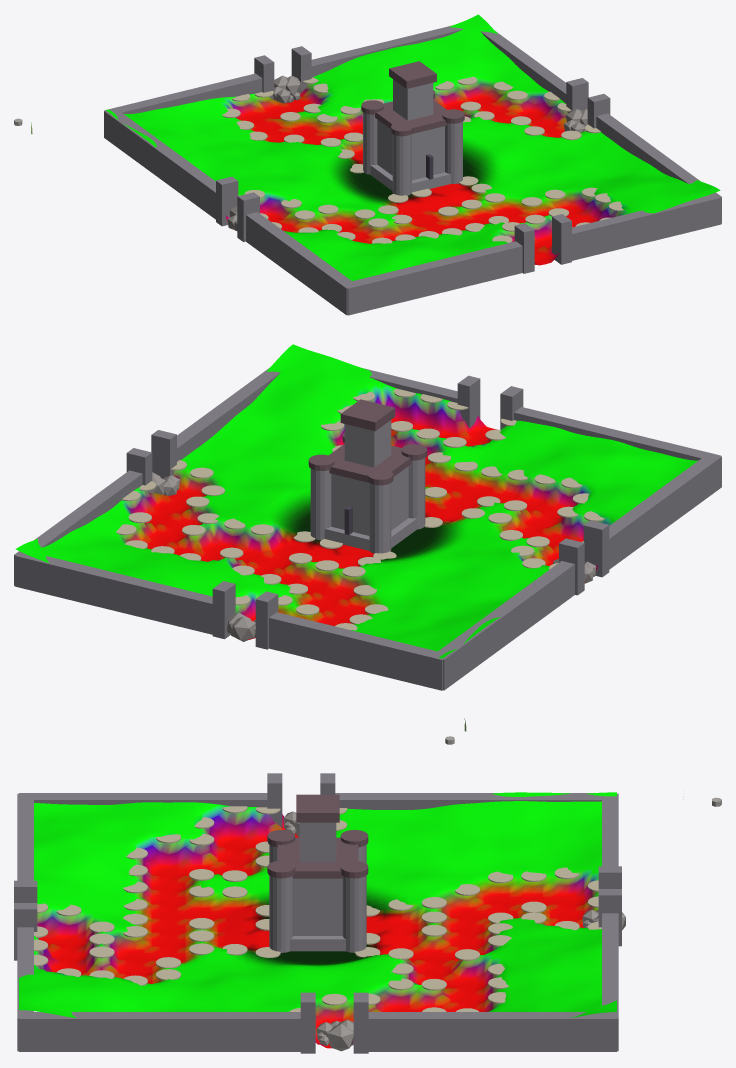
The model's file is keep_arena.glb.
3 renders of one model, top to bottom at view 1: azimuth 30°, elevation 25°; view 2: azimuth 150°, elevation 25°; view 3: azimuth 270°, elevation 25°, orthographic. The views are drawn at different scales.
Parts seen in each view (by area): view 1: terrain, wall_south_a, wall_south_b, wall_west_a, wall_west_b, wall_north_a, keep_walls, wall_east_b, wall_north_b, wall_east_a, keep_tower_core, keep_corner_3 (+13 smaller); view 2: terrain, wall_north_b, wall_north_a, wall_west_a, wall_west_b, keep_walls, wall_south_a, wall_east_b, wall_east_a, keep_tower_core, keep_corner_0, keep_corner_1 (+13 smaller); view 3: terrain, wall_east_b, wall_east_a, wall_west_a, keep_walls, wall_west_b, keep_corner_1, keep_corner_2, wall_north_b, keep_roof, keep_tower_core, wall_south_a (+12 smaller).
Part boxes in pixels (<box>): terrain: <box>106,14,720,280</box>; wall_south_a: <box>342,241,522,315</box>; wall_south_b: <box>572,193,721,260</box>; wall_west_a: <box>104,110,215,219</box>; wall_west_b: <box>246,212,356,315</box>; wall_north_a: <box>104,73,262,114</box>; keep_walls: <box>377,119,444,180</box>; wall_east_b: <box>596,113,721,223</box>; wall_north_b: <box>311,25,463,77</box>; wall_east_a: <box>480,31,566,103</box>; keep_tower_core: <box>393,79,433,120</box>; keep_corner_3: <box>392,134,411,195</box>; terrain: <box>15,344,697,658</box>; wall_north_b: <box>14,554,212,634</box>; wall_north_a: <box>269,612,449,690</box>; wall_west_a: <box>432,561,574,690</box>; wall_west_b: <box>609,454,721,569</box>; keep_walls: <box>331,466,408,535</box>; wall_south_a: <box>514,407,720,461</box>; wall_east_b: <box>177,368,280,461</box>; wall_east_a: <box>14,470,142,585</box>; keep_tower_core: <box>344,420,391,467</box>; keep_corner_0: <box>369,483,391,553</box>; keep_corner_1: <box>310,469,331,540</box>; terrain: <box>19,792,616,1048</box>; wall_east_b: <box>19,1012,300,1051</box>; wall_east_a: <box>368,1012,616,1051</box>; wall_west_a: <box>335,793,613,809</box>; keep_walls: <box>293,878,342,935</box>; wall_west_b: <box>19,793,267,807</box>; keep_corner_1: <box>342,875,366,952</box>; keep_corner_2: <box>269,875,293,952</box>; wall_north_b: <box>602,913,618,1051</box>; keep_roof: <box>278,837,357,878</box>; keep_tower_core: <box>299,822,336,862</box>; wall_south_a: <box>17,793,33,880</box>.
Bounding box in the file's own units: 18.39 × 4.69 × 21.31.
